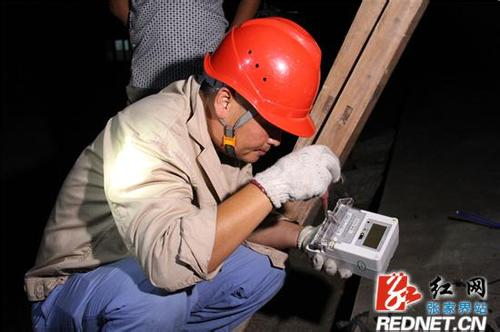gloves: (251, 144, 341, 209), (297, 223, 353, 279)
hard-hat: (203, 16, 322, 138)
person: (22, 15, 343, 331)
ppe-suit: (23, 15, 341, 330), (23, 73, 289, 330)
